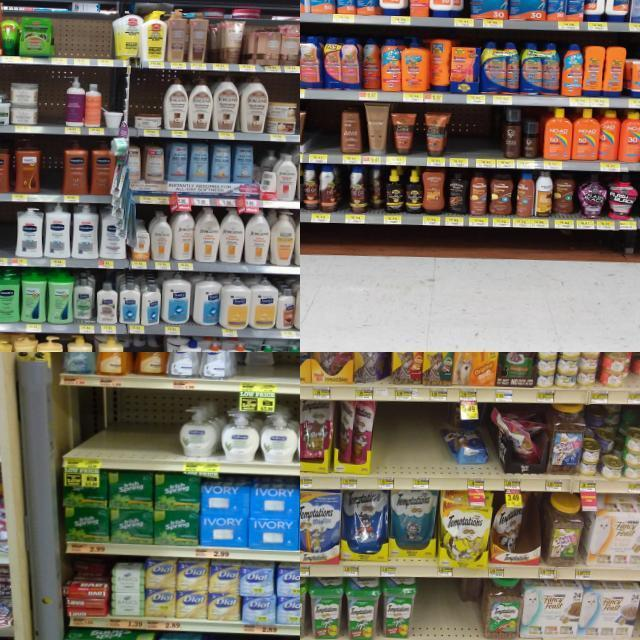empty: (98, 390, 178, 470), (374, 402, 413, 490), (412, 403, 439, 489), (308, 102, 340, 164), (416, 579, 444, 640), (37, 74, 65, 132), (40, 140, 65, 202), (449, 108, 474, 167), (476, 108, 500, 168), (273, 352, 300, 394), (71, 18, 94, 65), (442, 577, 459, 640), (0, 201, 15, 265), (54, 20, 72, 65), (94, 21, 112, 66)
